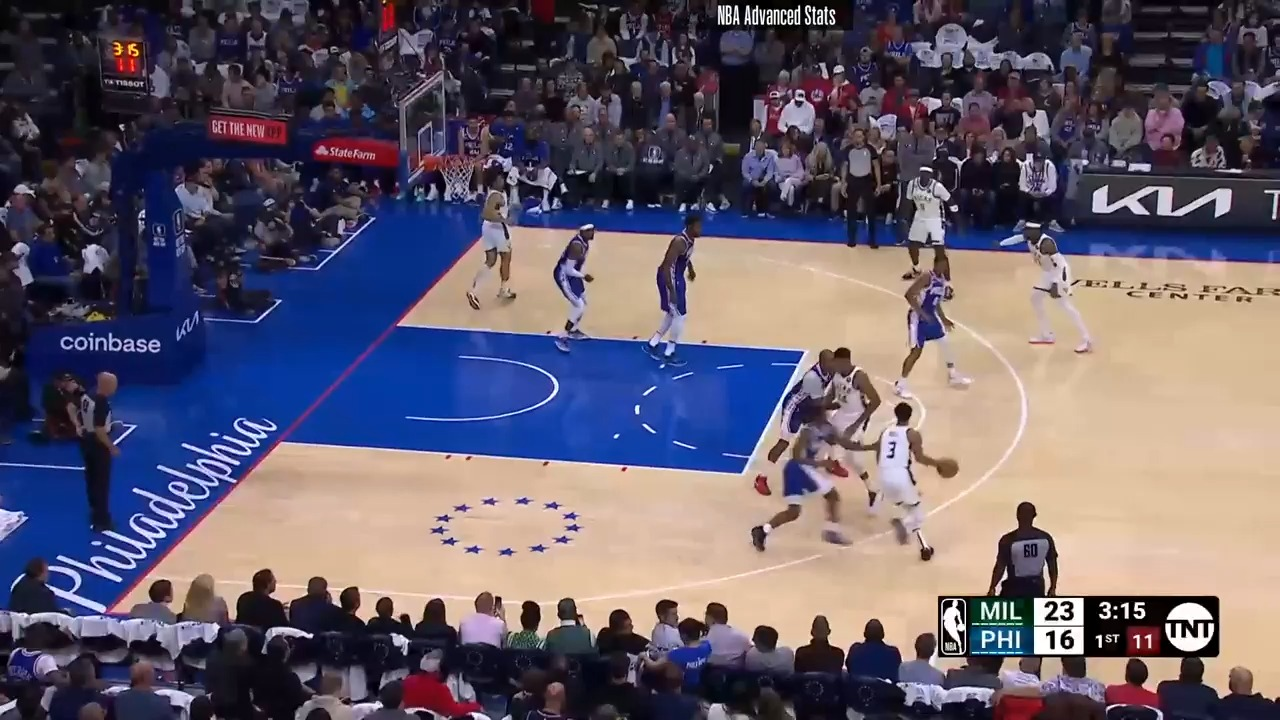net: (418, 149, 485, 201)
player: (852, 401, 953, 567), (752, 398, 852, 556), (746, 344, 839, 497), (812, 345, 884, 509), (895, 253, 975, 396), (648, 215, 714, 375), (1024, 223, 1101, 360), (896, 162, 961, 301), (459, 173, 520, 314), (552, 226, 609, 356)
referee: (60, 369, 123, 544), (984, 502, 1063, 601), (837, 126, 887, 254)
